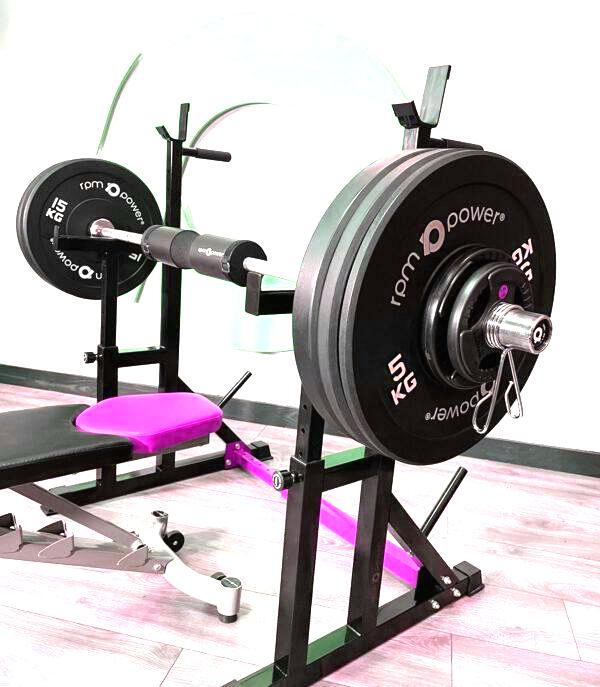Barbell: (527, 310, 556, 355)
